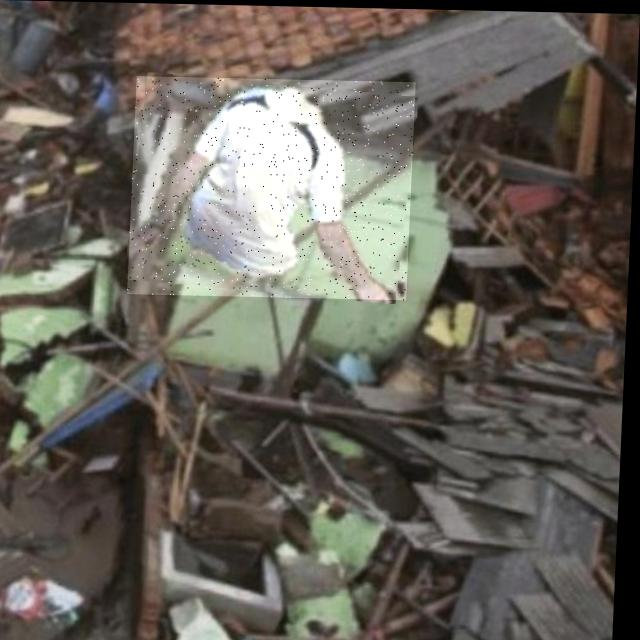Person in Rubble: (130, 75, 416, 298)
